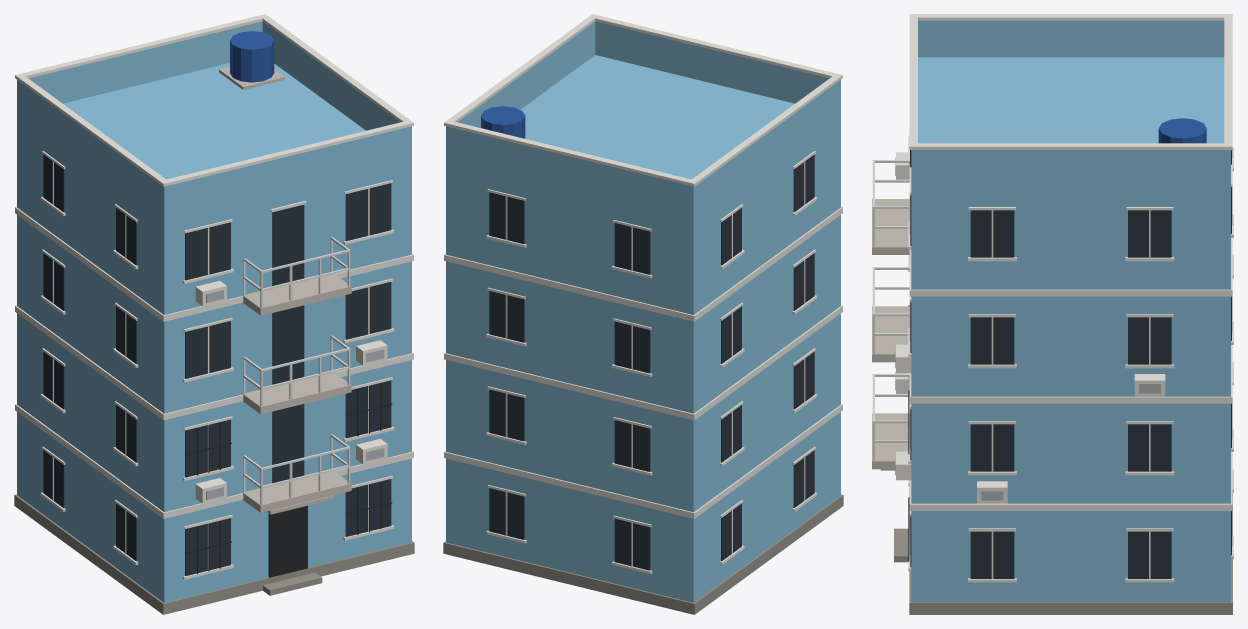
Rendered from BAY_F_Tower_E.glb.
The picture shows the model from 3 angles, left to right: view 1: azimuth 30°, elevation 25°; view 2: azimuth 150°, elevation 25°; view 3: azimuth 270°, elevation 25°; orthographic projection. The views are drawn at different scales.
Visible parts, largest first — view 1: BAY_F_Tower_E; view 2: BAY_F_Tower_E; view 3: BAY_F_Tower_E.
Boxes of the visible parts, left/top/right/bottom form: BAY_F_Tower_E: left=14, top=14, right=414, bottom=614; BAY_F_Tower_E: left=443, top=14, right=843, bottom=614; BAY_F_Tower_E: left=872, top=14, right=1233, bottom=614.
Size of the model in its own units: 7.54 by 11.8 by 8.27.
1 material, 1 textured.
